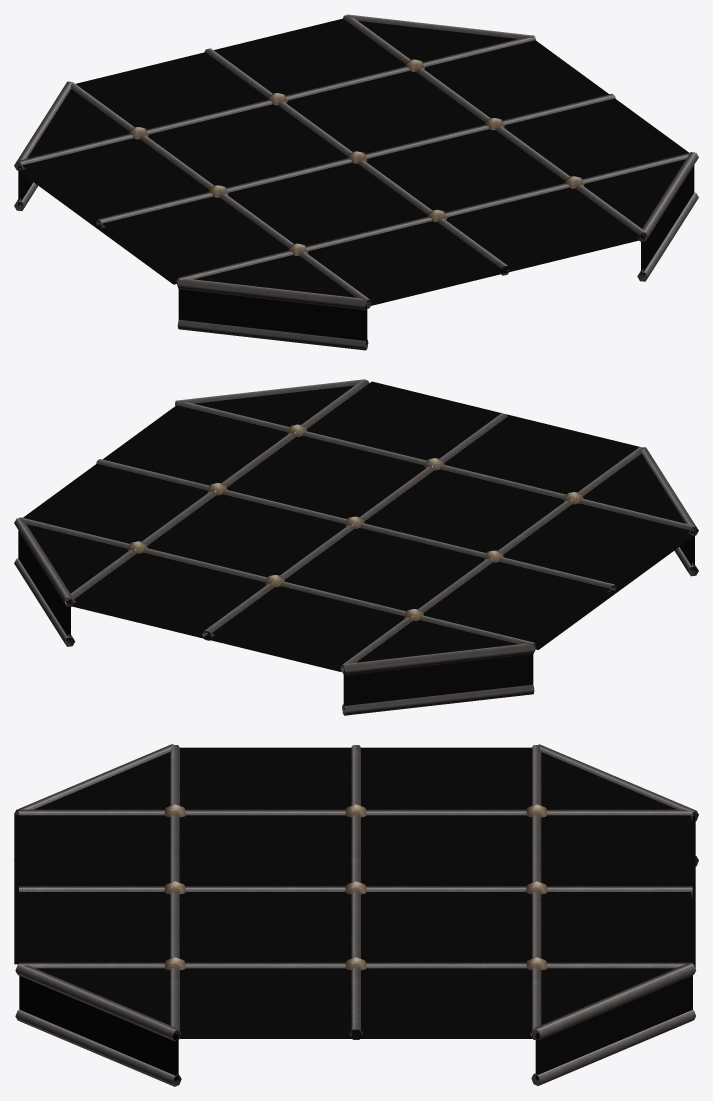
The model's file is catwalk_factory_crosssection.DAE.
The picture shows the model from 3 angles, top to bottom: view 1: azimuth 30°, elevation 25°; view 2: azimuth 150°, elevation 25°; view 3: azimuth 270°, elevation 25°; orthographic projection. The views are drawn at different scales.
Visible parts, largest first — view 1: Plane009, Object100; view 2: Plane009, Object100; view 3: Plane009, Object100.
Boxes of the visible parts, x1,y1,x2,y2 form: Plane009: (18,18,694,345); Object100: (14,14,698,350); Plane009: (18,381,694,710); Object100: (14,379,698,715); Plane009: (14,747,695,1080); Object100: (14,744,698,1086).
Size of the model in its own units: 3.17 by 0.3191 by 3.18.
